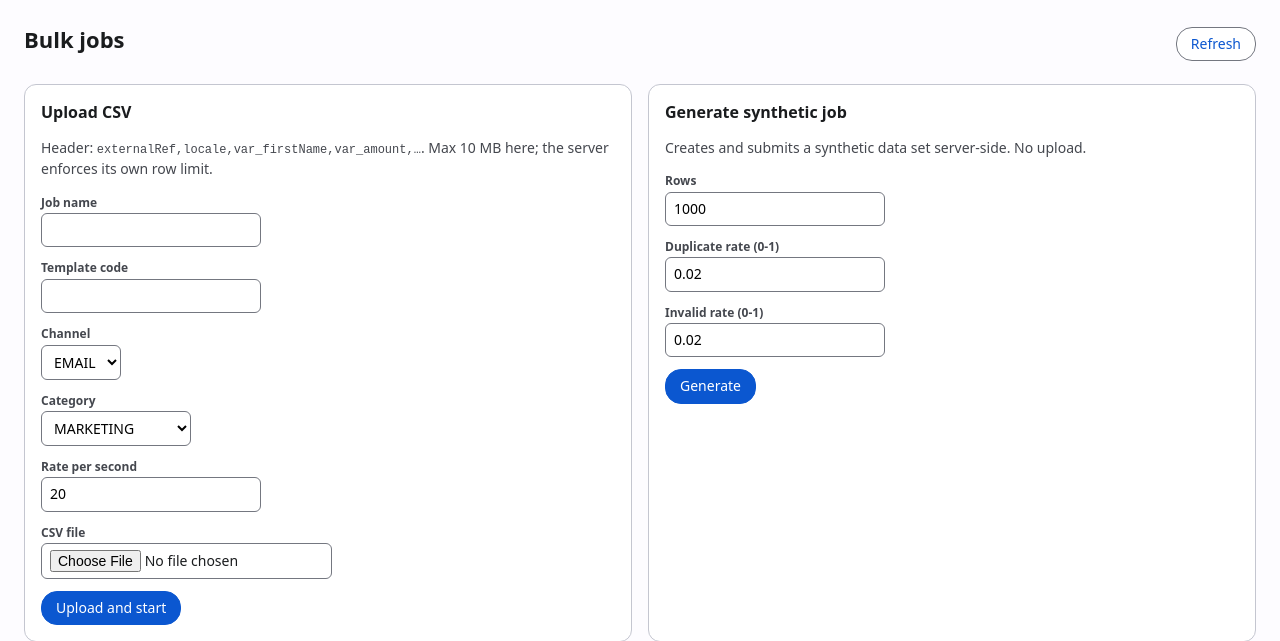
Test case: bulk jobs › shows server errors (missing messages:bulk scope -> FORBIDDEN) from a launch
What coordinates should you click on to do the following:
click the button "Generate"
I would click on:
 (710, 387)
Its box is x1=665 y1=369 x2=756 y2=404.
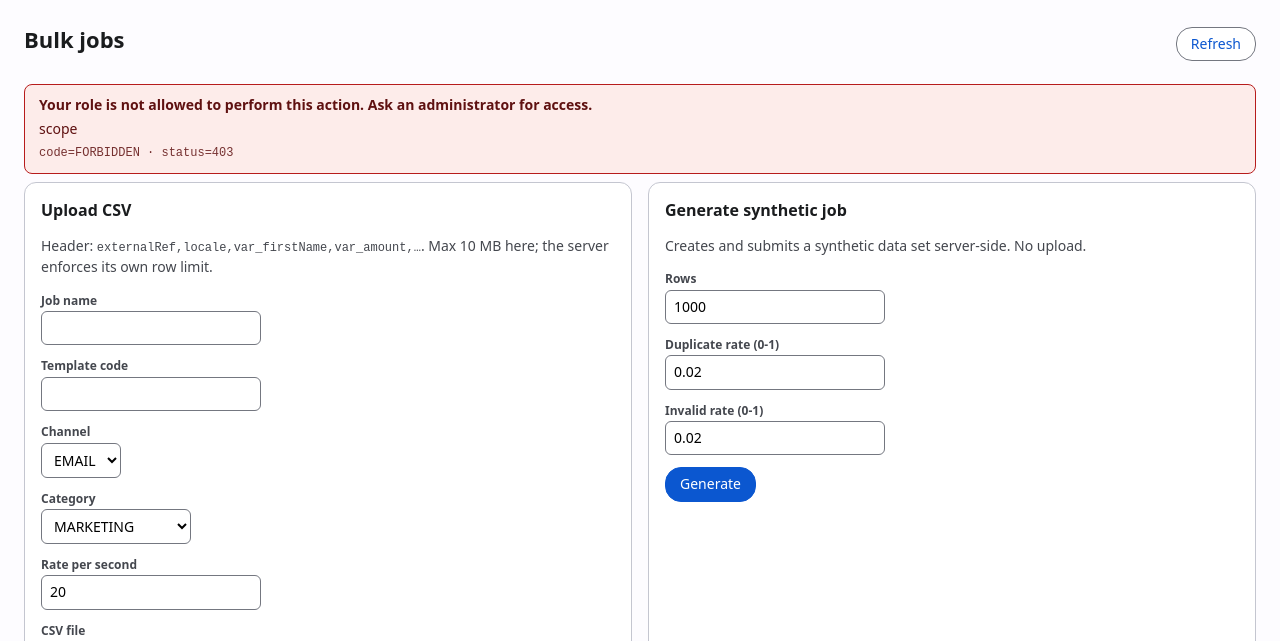
Now the message shows "Your role is not allowed", box x1=39 y1=95 x2=592 y2=114
